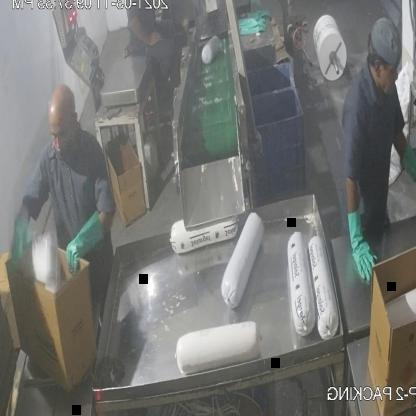glove: (60, 204, 104, 278), (10, 201, 33, 274)
no_glove: (127, 12, 164, 52)
